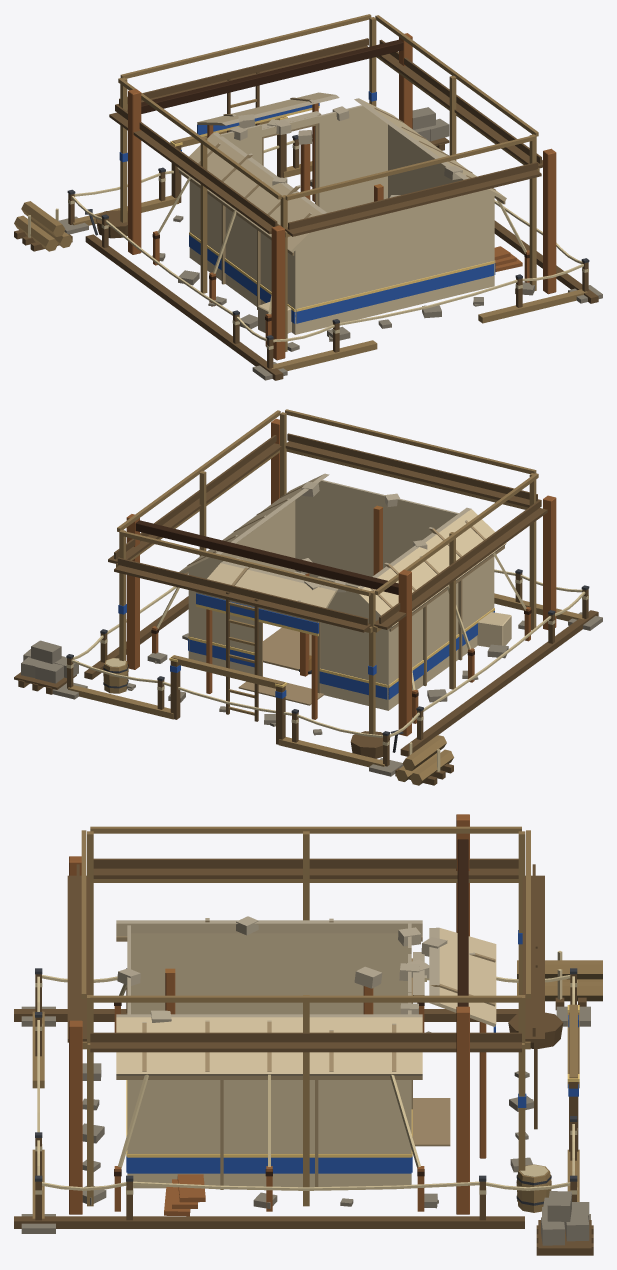
The model's file is 中等帐篷_升级.glb.
The picture shows the model from 3 angles, top to bottom: view 1: azimuth 30°, elevation 25°; view 2: azimuth 150°, elevation 25°; view 3: azimuth 270°, elevation 25°; orthographic projection. The views are drawn at different scales.
Visible parts, largest first — view 1: TN2U-主体, TN2U-team, TN2U-team_trim; view 2: TN2U-主体, TN2U-team, TN2U-team_trim; view 3: TN2U-主体, TN2U-team, TN2U-team_trim.
Boxes of the visible parts, left/top/right/bottom form: TN2U-主体: left=14, top=14, right=602, bottom=380; TN2U-team: left=119, top=91, right=495, bottom=323; TN2U-team_trim: left=170, top=106, right=495, bottom=311; TN2U-主体: left=14, top=409, right=602, bottom=785; TN2U-team: left=118, top=593, right=494, bottom=699; TN2U-team_trim: left=169, top=604, right=494, bottom=687; TN2U-主体: left=14, top=814, right=602, bottom=1255; TN2U-team: left=126, top=930, right=578, bottom=1173; TN2U-team_trim: left=126, top=1005, right=579, bottom=1157.
Bounding box in the file's own units: 7.56 × 2.81 × 6.84.
4 materials, 2 textured.
